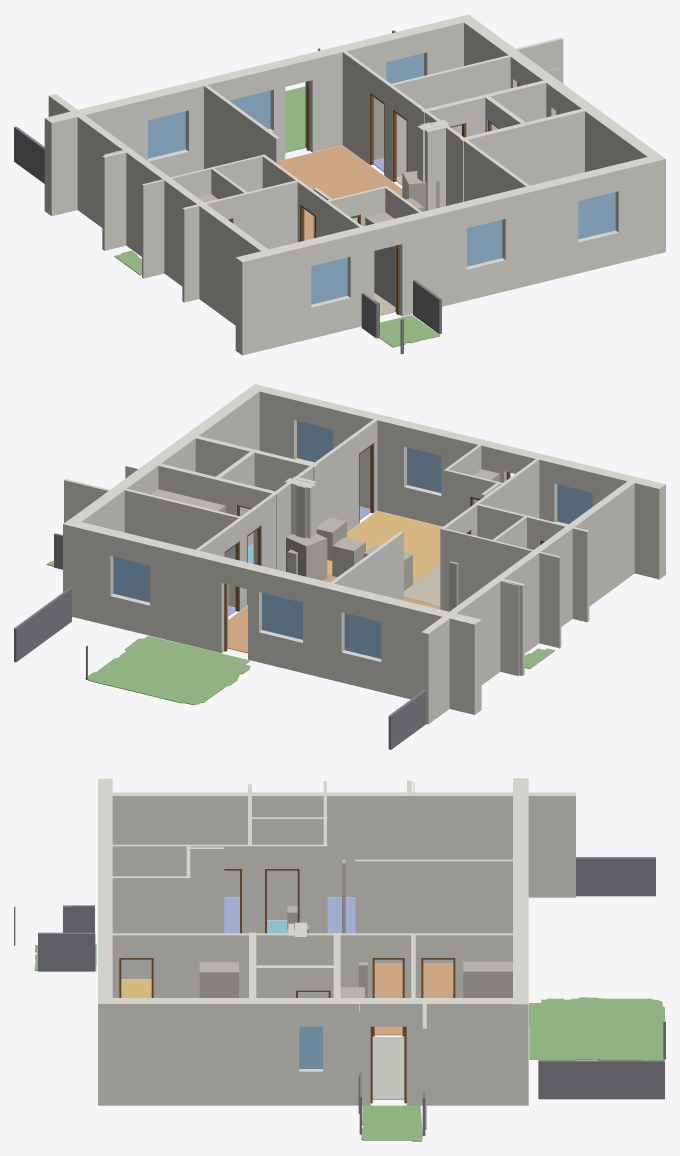
3 views of the same model, one above another, from view 1: azimuth 30°, elevation 25°; view 2: azimuth 150°, elevation 25°; view 3: azimuth 270°, elevation 25° (orthographic). The views are drawn at different scales.
Visible parts, largest first — view 1: walls, floor_1_Living_Room, railings, window_0, window_3, window_6, window_1, furniture_7_closet, floor_13_Outdoor, floor_16_Outdoor, window_4, window_2 (+2 smaller); view 2: walls, floor_13_Outdoor, railings, floor_3_Kitchen, window_4, furniture_21_fireplace, window_3, window_2, window_1, window_0, window_6, floor_1_Living_Room (+5 smaller); view 3: walls, railings, floor_13_Outdoor, floor_1_Living_Room, floor_14_Outdoor, floor_5_Undefined, furniture_0_closet, furniture_6_closet, window_7, floor_0_Bed_Room, floor_3_Kitchen, floor_11_Bed_Room.
Part boxes in pixels (box(x1,y1,x2,y2)): walls: box(44, 14, 665, 355); floor_1_Living_Room: box(280, 145, 402, 240); railings: box(14, 30, 441, 354); window_0: box(578, 192, 615, 239); window_3: box(148, 111, 185, 158); window_6: box(311, 257, 347, 304); window_1: box(467, 220, 502, 266); furniture_7_closet: box(365, 212, 395, 306); floor_13_Outdoor: box(285, 86, 305, 152); floor_16_Outdoor: box(379, 315, 440, 347); window_4: box(229, 90, 270, 129); window_2: box(386, 53, 423, 83); walls: box(63, 384, 665, 724); floor_13_Outdoor: box(85, 636, 250, 705); railings: box(14, 533, 426, 749); floor_3_Kitchen: box(327, 511, 442, 582); window_4: box(262, 593, 302, 639); furniture_21_fireplace: box(286, 533, 327, 580); window_3: box(344, 613, 381, 658); window_2: box(113, 556, 149, 602); window_1: box(407, 447, 441, 492); window_0: box(297, 421, 333, 462); window_6: box(557, 484, 592, 524); floor_1_Living_Room: box(228, 575, 440, 653); walls: box(98, 778, 575, 1129); railings: box(14, 857, 665, 1135); floor_13_Outdoor: box(529, 997, 664, 1060); floor_1_Living_Room: box(374, 963, 453, 1035); floor_14_Outdoor: box(361, 1105, 422, 1141); floor_5_Undefined: box(372, 1037, 404, 1099); furniture_0_closet: box(463, 961, 512, 997); furniture_6_closet: box(199, 962, 238, 997); window_7: box(299, 1026, 322, 1068); floor_0_Bed_Room: box(327, 898, 355, 933); floor_3_Kitchen: box(121, 979, 151, 997); floor_11_Bed_Room: box(224, 898, 239, 933).
Bounding box in the file's own units: 14.86 × 2.72 × 15.71.
